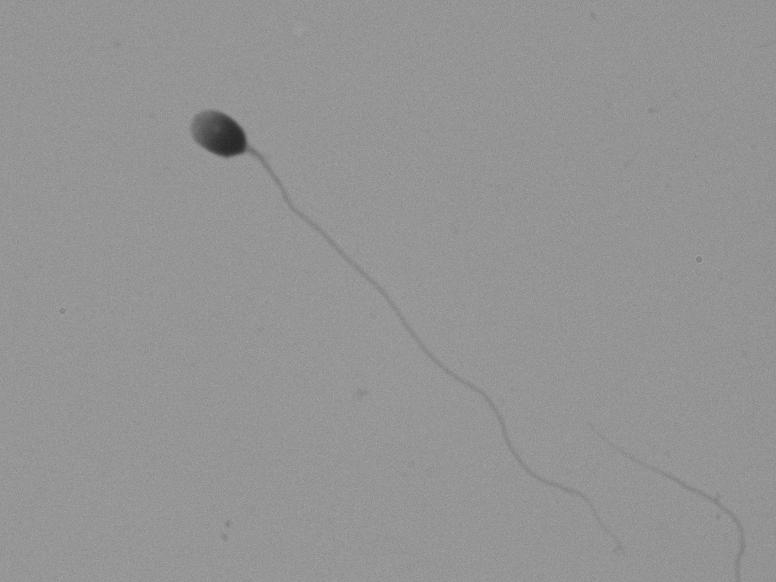Normal: (87, 84, 607, 498)
